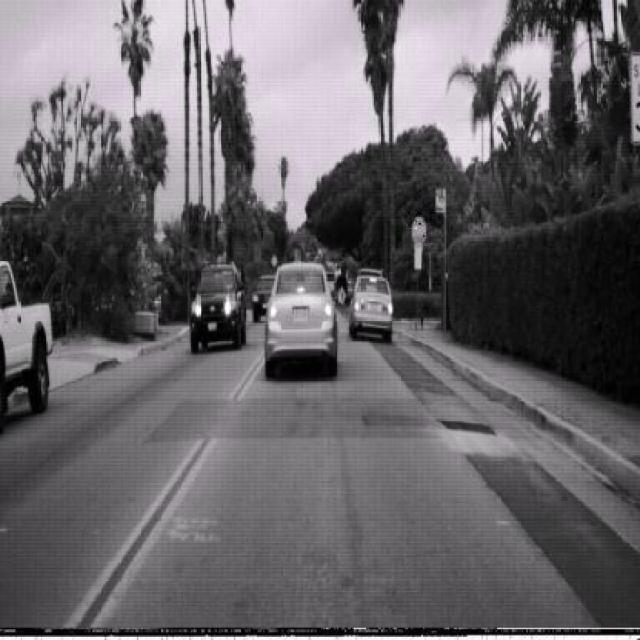stop: (411, 215, 426, 244)
